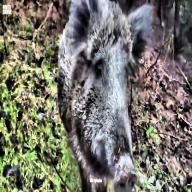boar: (53, 6, 155, 192)
